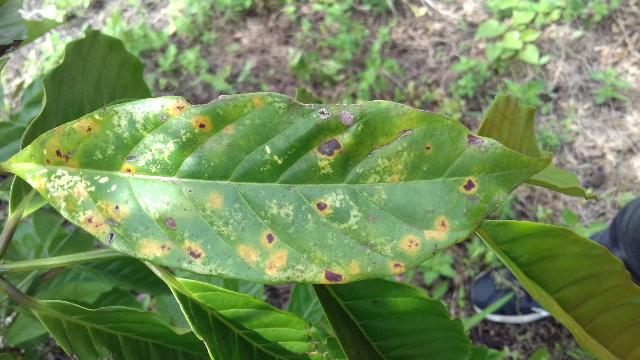rust_level_2: (5, 88, 561, 287)
